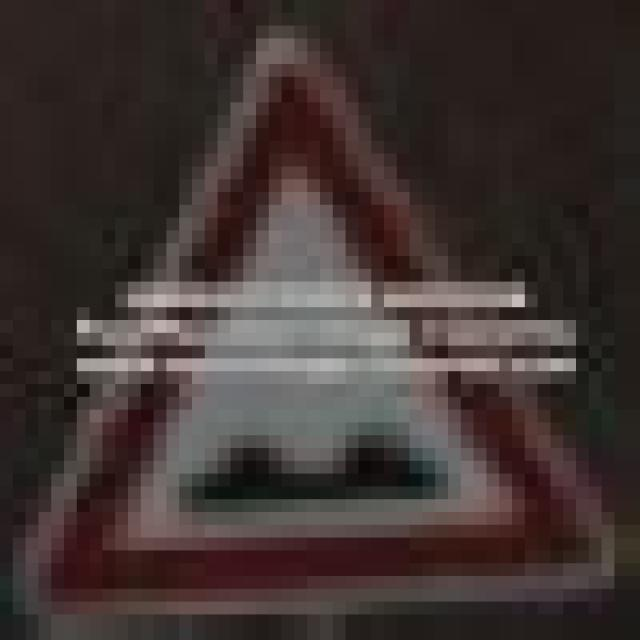horn_prohibited: (13, 26, 614, 588)
